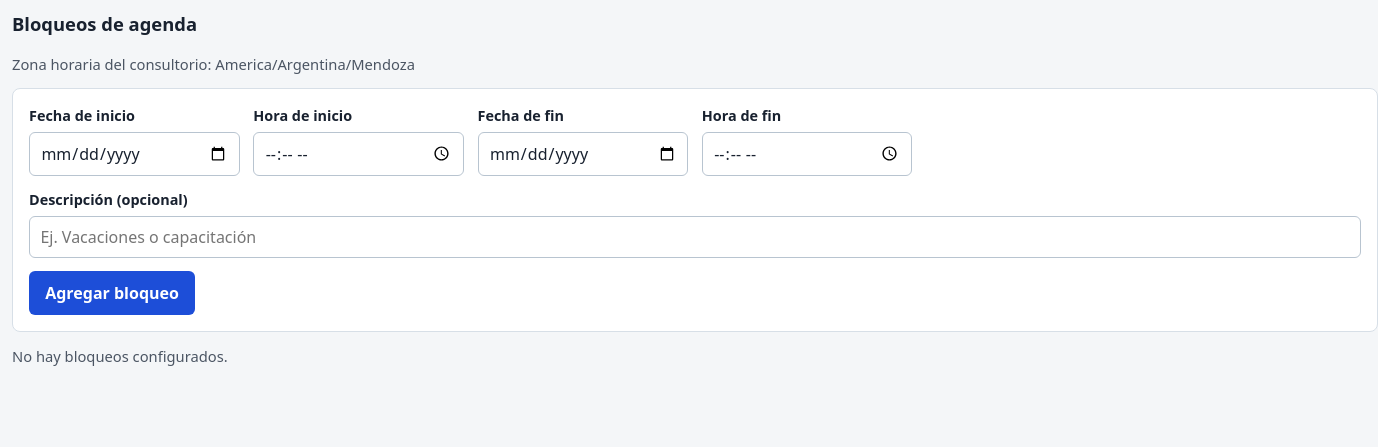
Test: BloqueosSection › no agrega bloqueo ante 409 CONFIGURATION_CONFLICT
The width and height of the screenshot is (1378, 447).
Expected: the text "No hay bloqueos configurados." is shown, [12,346,228,366]
Step 1. Type "2026-12-15" into the date field labelled "Fecha de inicio" → (134, 154), box [29,132,240,176]
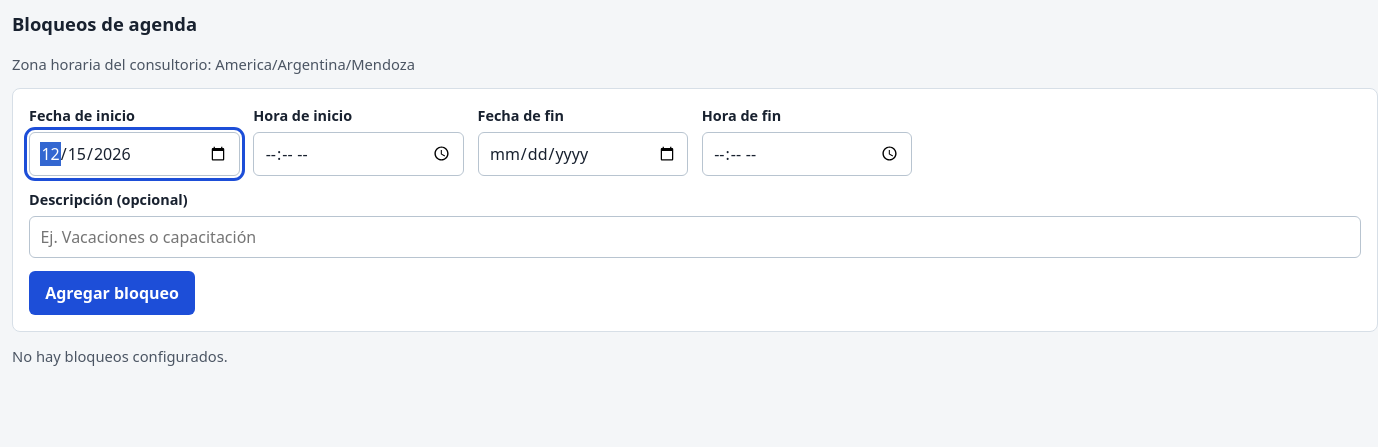
Step 2. Type "09:00" into the time field labelled "Hora de inicio" → (359, 154), box [253,132,464,176]
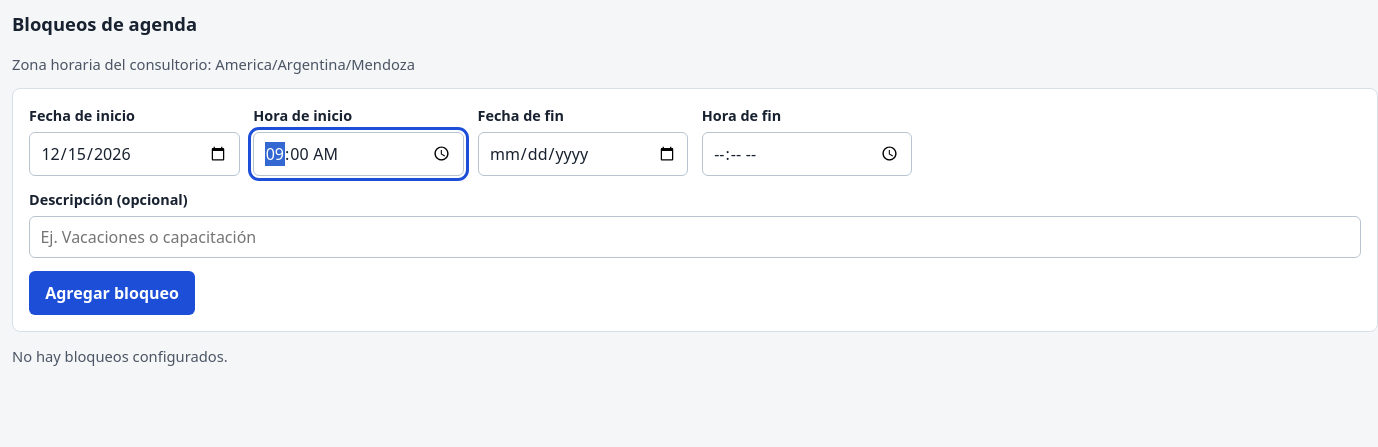
Step 3. Type "2026-12-15" into the date field labelled "Fecha de fin" → (583, 154), box [478,132,688,176]
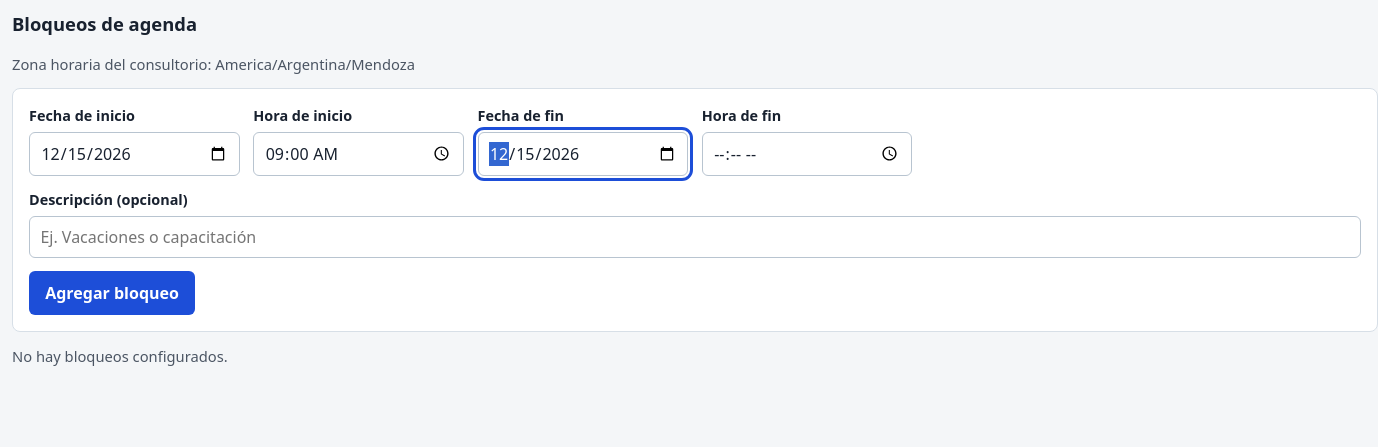
Step 4. Type "11:00" into the time field labelled "Hora de fin" → (807, 154), box [702,132,912,176]
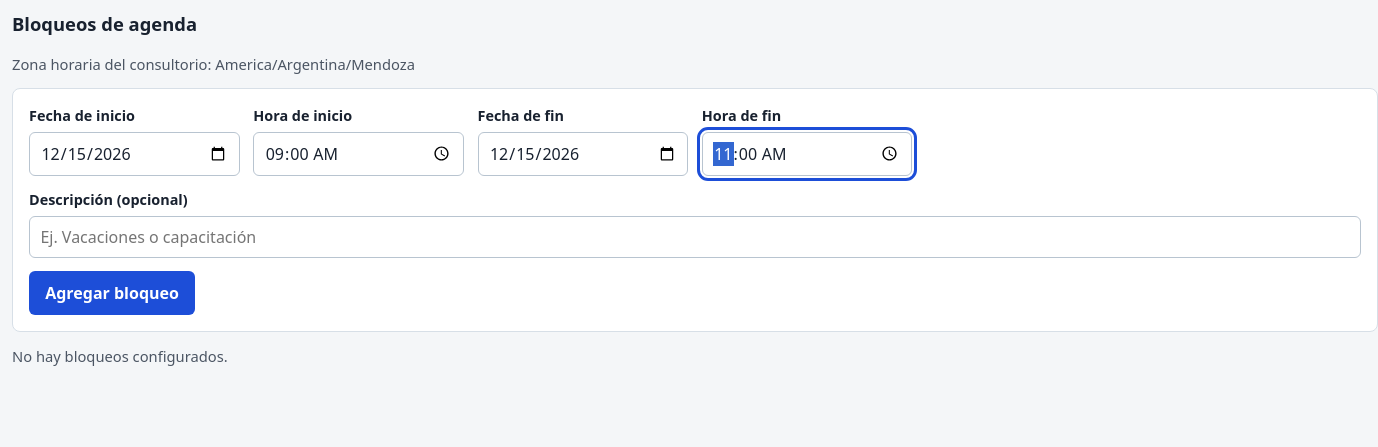
Step 5. Click the button "Agregar bloqueo" → click(112, 293), box [29,271,195,315]
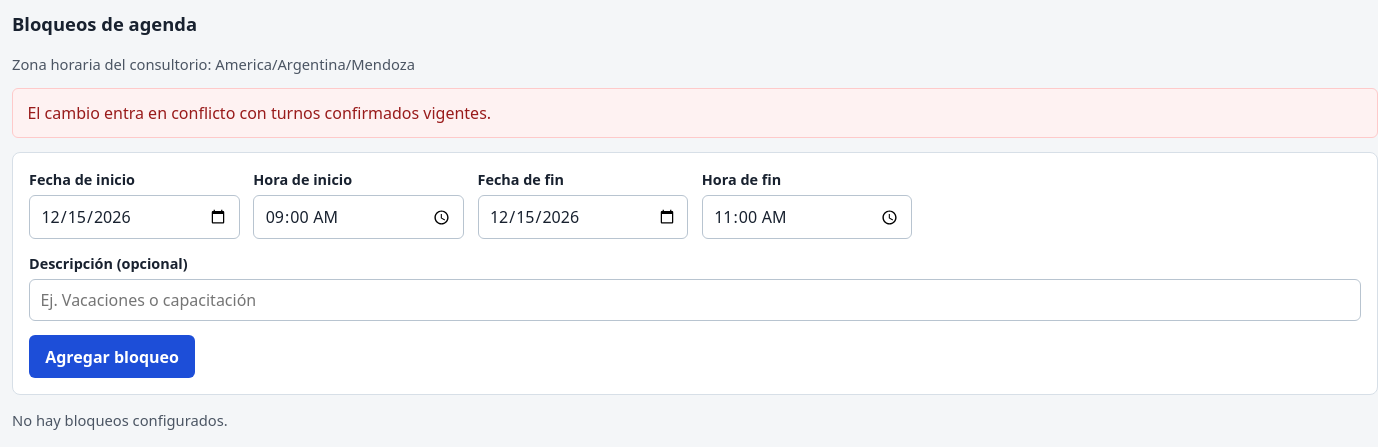
Expected: the text "No hay bloqueos configurados." is shown, [12,410,228,430]
Result: the message shows "conflicto" at [27,102,491,124]
